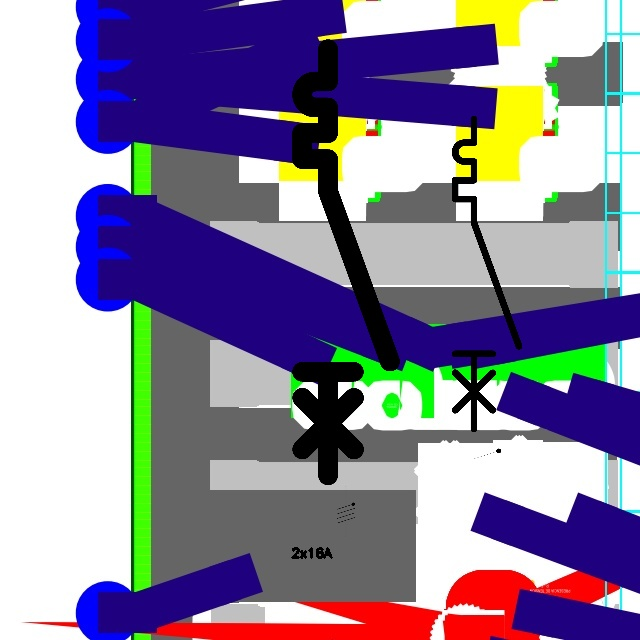interruptor_termomagnetico: (291, 38, 400, 486), (447, 111, 526, 437)
